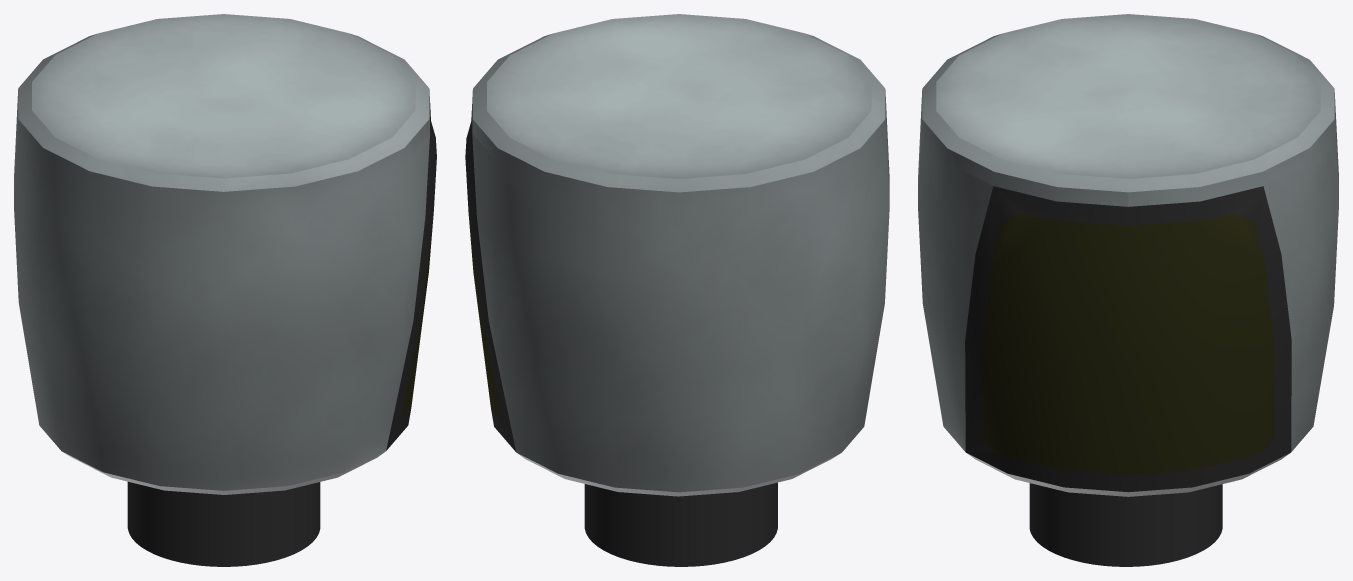
The model's file is sm_leida.fbx.
3 views of the same model, side by side, from view 1: azimuth 30°, elevation 25°; view 2: azimuth 150°, elevation 25°; view 3: azimuth 270°, elevation 25° (orthographic).
Visible parts, largest first — view 1: sm_leda; view 2: sm_leda; view 3: sm_leda.
Boxes of the visible parts, <box> form: sm_leda: <box>14,14,436,566</box>; sm_leda: <box>465,14,889,566</box>; sm_leda: <box>918,14,1338,566</box>.
Size of the model in its own units: 0.1784 by 0.1981 by 0.1757.
Materials: 1 (1 with a texture image).
